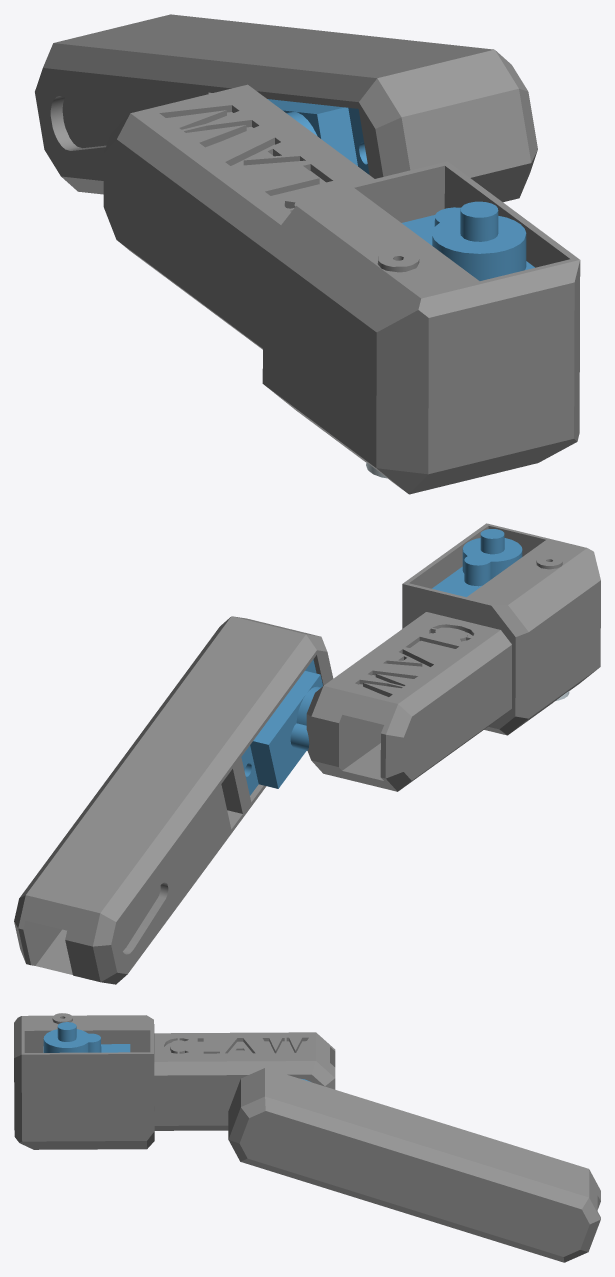
Rendered from forearm.glb.
The picture shows the model from 3 angles, top to bottom: view 1: azimuth 30°, elevation 25°; view 2: azimuth 150°, elevation 25°; view 3: azimuth 270°, elevation 25°; orthographic projection. The views are drawn at different scales.
Visible parts, largest first — view 1: forearm; view 2: forearm; view 3: forearm.
Part boxes in pixels (bbox=[...]): forearm: bbox=[35, 14, 580, 494]; forearm: bbox=[14, 523, 600, 984]; forearm: bbox=[14, 1013, 600, 1262].
Size of the model in its own units: 0.0558 by 0.0535 by 0.1541.
